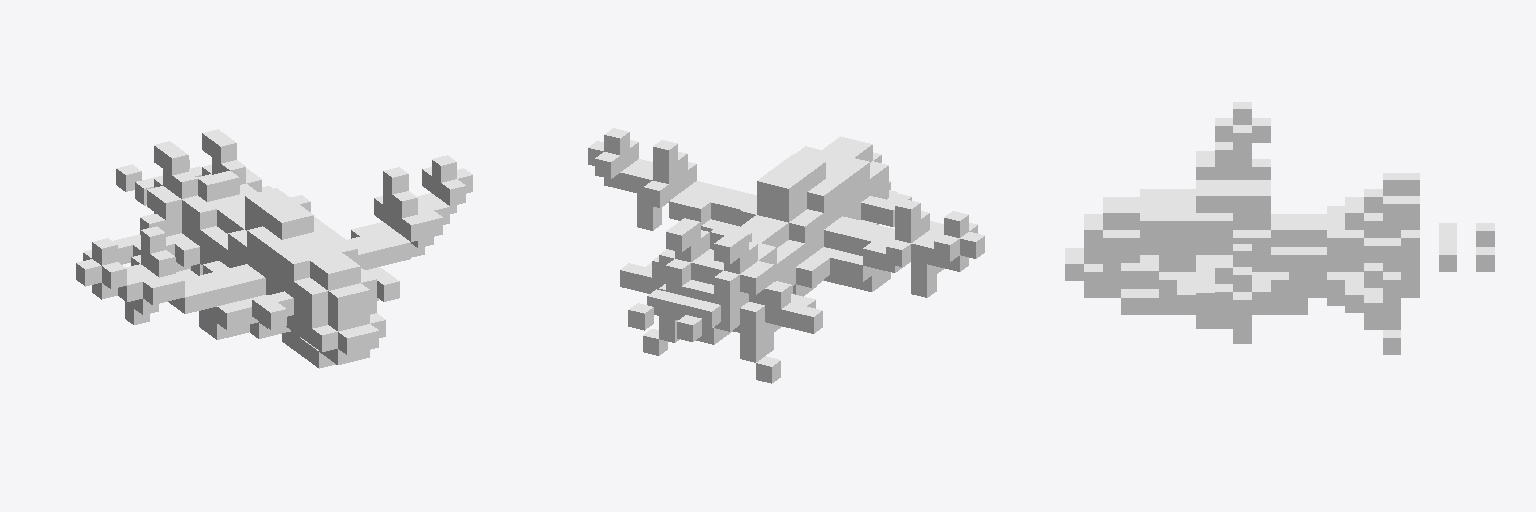
The model's file is ship0.obj.
The picture shows the model from 3 angles: view 1: azimuth 30°, elevation 25°; view 2: azimuth 150°, elevation 25°; view 3: azimuth 270°, elevation 25°; orthographic projection.
Parts seen in each view (by area): view 1: Ship; view 2: Ship; view 3: Ship.
Boxes of the visible parts, box(x1,y1,x2,y2) form: Ship: box(76, 129, 472, 368); Ship: box(588, 128, 984, 383); Ship: box(1065, 102, 1494, 354).
Bounding box in the file's own units: 2.4 × 0.8 × 2.3.